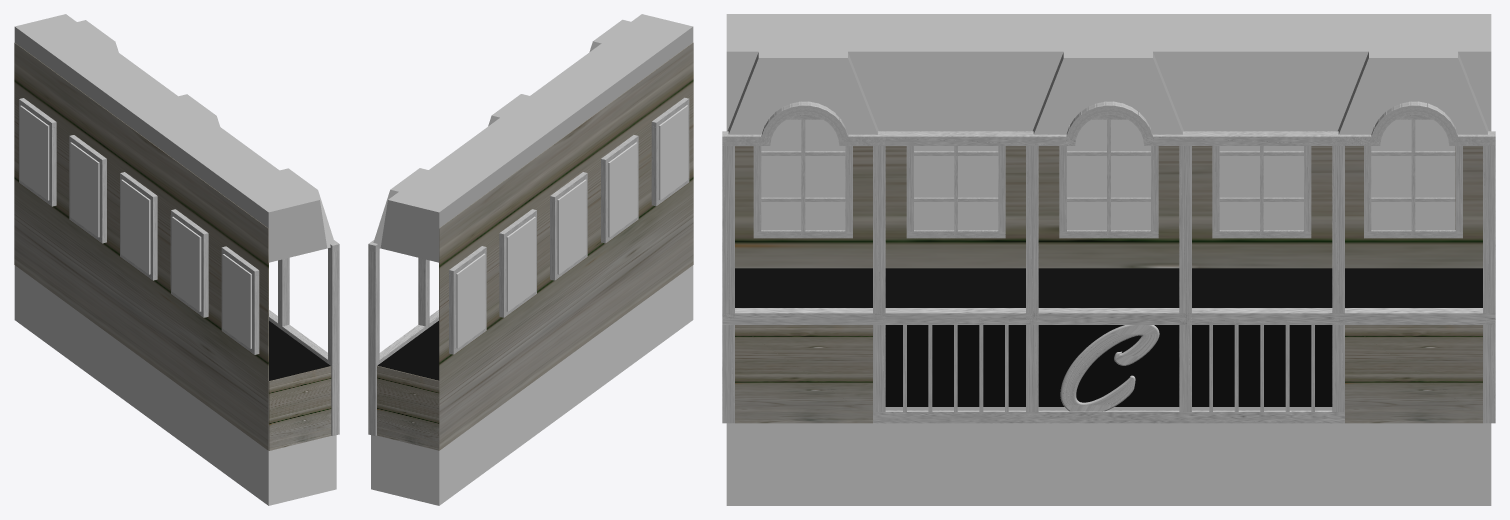
File: CStage.fbx
The picture shows the model from 3 angles, left to right: view 1: azimuth 30°, elevation 25°; view 2: azimuth 150°, elevation 25°; view 3: azimuth 270°, elevation 25°; orthographic projection. The views are drawn at different scales.
Visible parts, largest first — view 1: Cube.010, Cube.006, Cube.011, Cube.002, Cube.004, Cube.001, Cube.013, Cube.003, Cube.005, Cube, Cube.009, Cube.008 (+1 smaller); view 2: Cube.010, Cube.011, Cube.006, Cube.002, Cube.004, Cube.013, Cube.001, Cube.003, Cube.005, Cube, Cube.009, Cube.008; view 3: Cube.010, Cube.011, Cube.006, Cube, Cube.002, Cube.004, Cube.013, Cube.005, Cube.008, Cube.009, Cube.001, Cube.003 (+2 smaller).
Part boxes in pixels (left/top/right/bottom): Cube.010: left=14, top=42, right=331, bottom=450; Cube.006: left=14, top=14, right=327, bottom=262; Cube.011: left=14, top=265, right=336, bottom=505; Cube.002: left=269, top=240, right=339, bottom=435; Cube.004: left=221, top=246, right=259, bottom=354; Cube.001: left=170, top=209, right=208, bottom=317; Cube.013: left=120, top=172, right=157, bottom=280; Cube.003: left=69, top=135, right=106, bottom=243; Cube.005: left=19, top=98, right=56, bottom=206; Cube: left=269, top=321, right=330, bottom=380; Cube.009: left=35, top=20, right=118, bottom=53; Cube.008: left=136, top=94, right=220, bottom=127; Cube.010: left=377, top=42, right=693, bottom=450; Cube.011: left=371, top=265, right=693, bottom=505; Cube.006: left=380, top=14, right=693, bottom=262; Cube.002: left=368, top=240, right=438, bottom=435; Cube.004: left=651, top=97, right=689, bottom=206; Cube.013: left=550, top=172, right=587, bottom=280; Cube.001: left=601, top=135, right=638, bottom=243; Cube.003: left=499, top=209, right=536, bottom=317; Cube.005: left=449, top=246, right=486, bottom=354; Cube: left=377, top=321, right=438, bottom=380; Cube.009: left=373, top=168, right=470, bottom=247; Cube.008: left=488, top=94, right=571, bottom=127; Cube.010: left=735, top=146, right=1482, bottom=423; Cube.011: left=726, top=407, right=1491, bottom=505; Cube.006: left=726, top=14, right=1491, bottom=131; Cube: left=735, top=268, right=1482, bottom=406; Cube.002: left=722, top=101, right=1495, bottom=423; Cube.004: left=753, top=115, right=852, bottom=238; Cube.013: left=1059, top=115, right=1158, bottom=238; Cube.005: left=1364, top=115, right=1462, bottom=238; Cube.008: left=1033, top=20, right=1183, bottom=134; Cube.009: left=1338, top=20, right=1488, bottom=134; Cube.001: left=906, top=146, right=1005, bottom=238; Cube.003: left=1212, top=146, right=1311, bottom=238.
Bounding box in the file's own units: 104 × 383 × 607.
